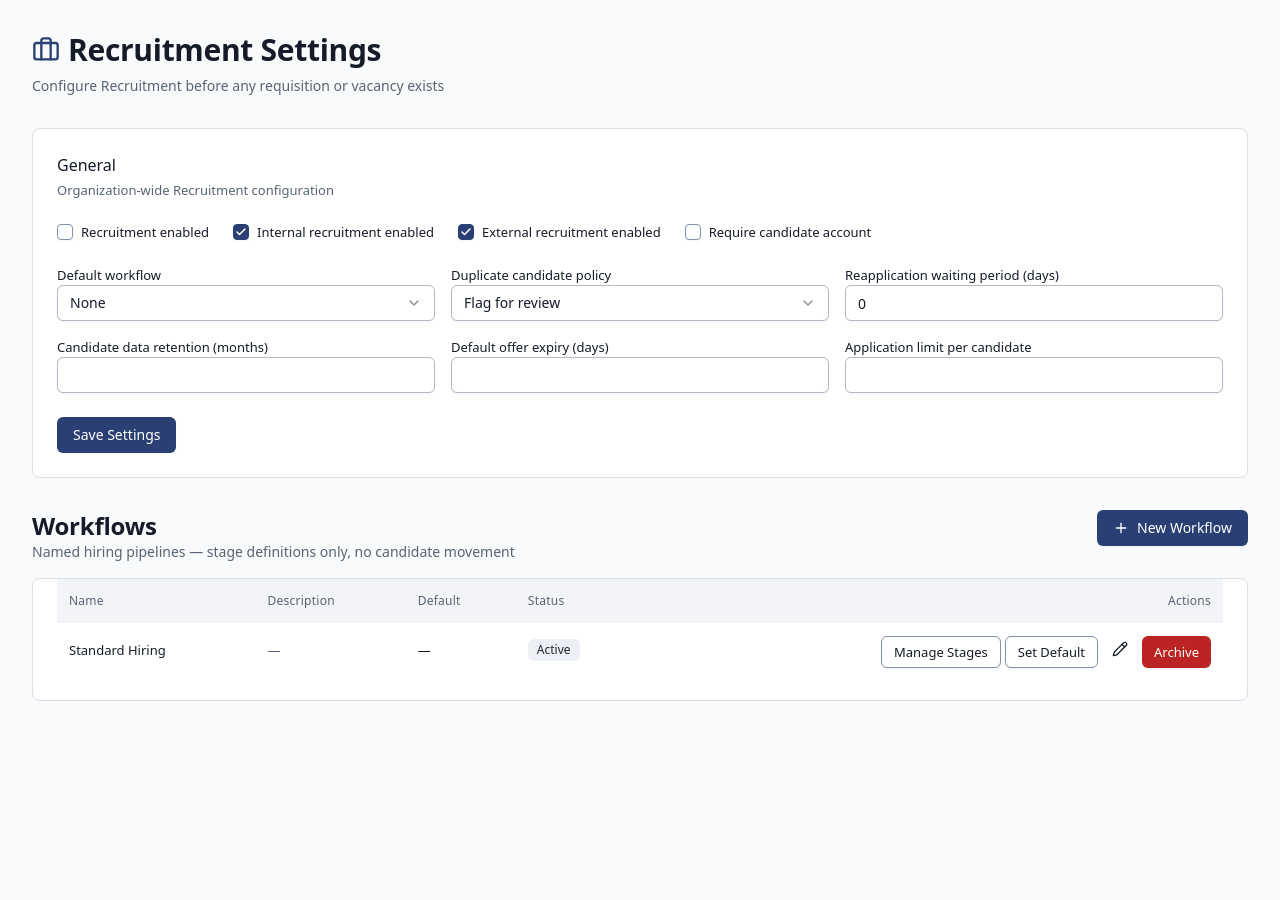
Scenario: Recruitment Settings page › archive / reactivate confirmation › archives exactly once on confirm, invalidates the workflow list, and closes
What coordinates should you click on to do the following:
click the button with test id "button-toggle-workflow-1"
I would click on:
 (1176, 652)
Its box is [1142, 636, 1211, 668].
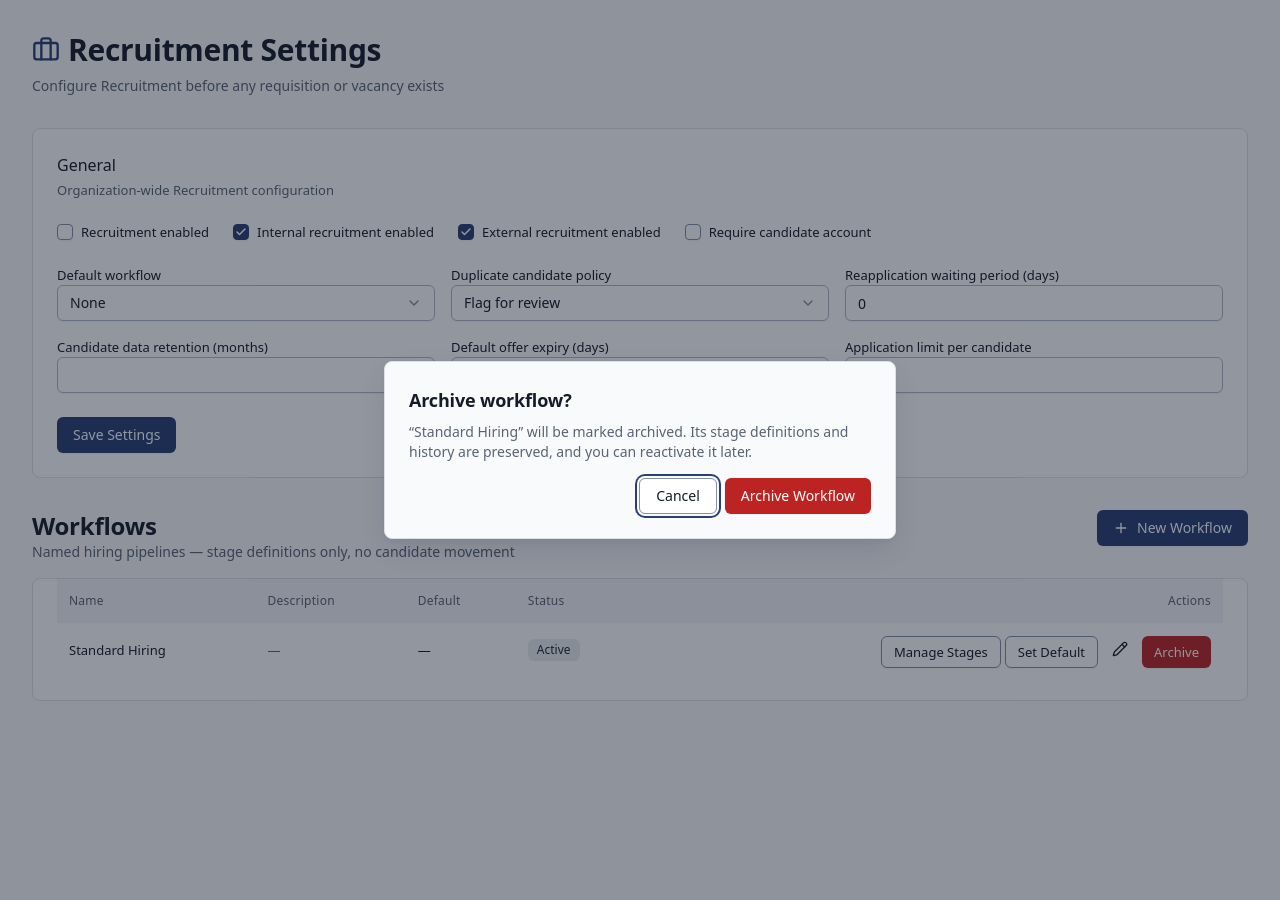
What coordinates should you click on to do the following:
click the button with test id "dialog-archive-workflow-confirm"
I would click on:
 (798, 496)
Its box is [725, 478, 871, 514].
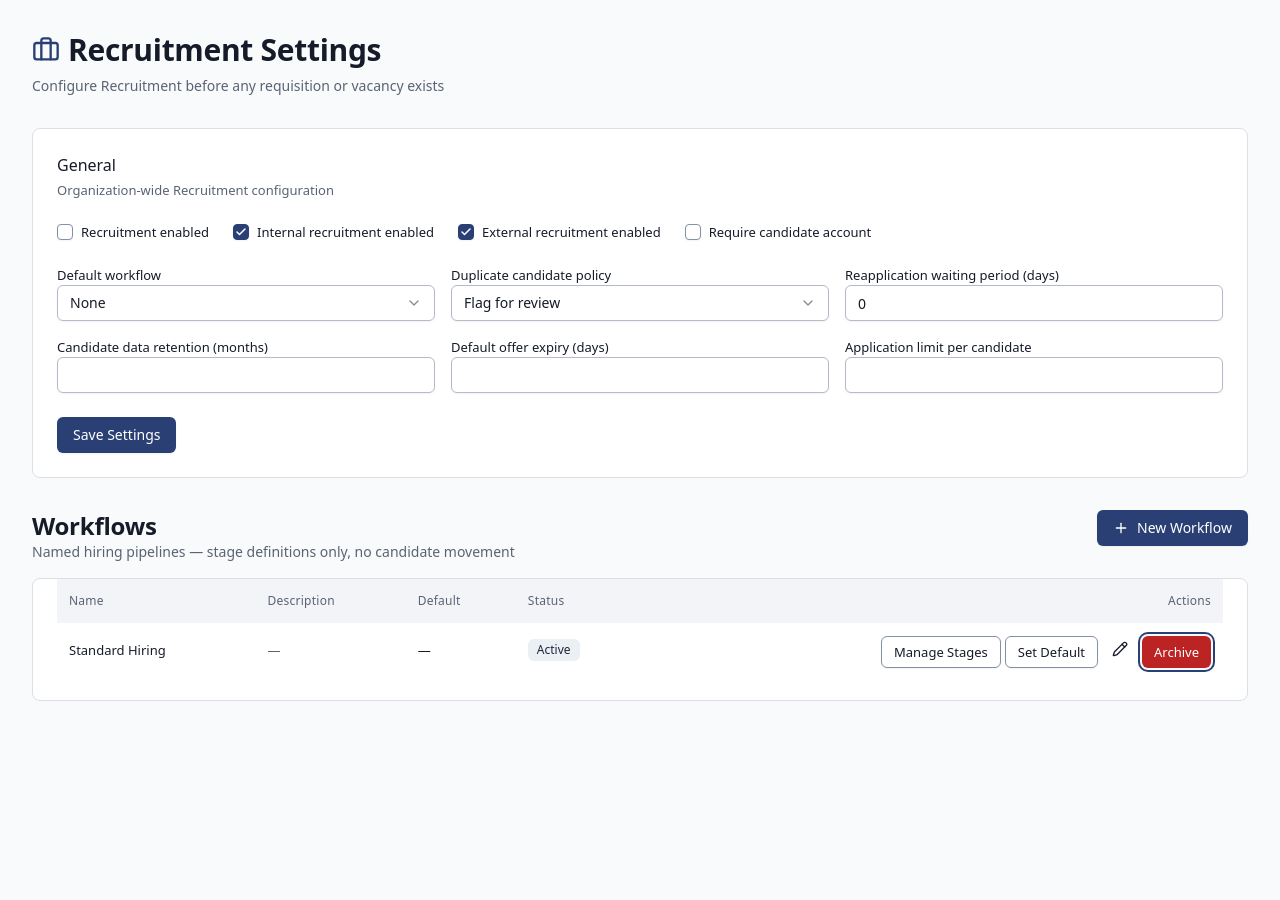
Expected: the dialog with test id "dialog-archive-workflow" is gone
